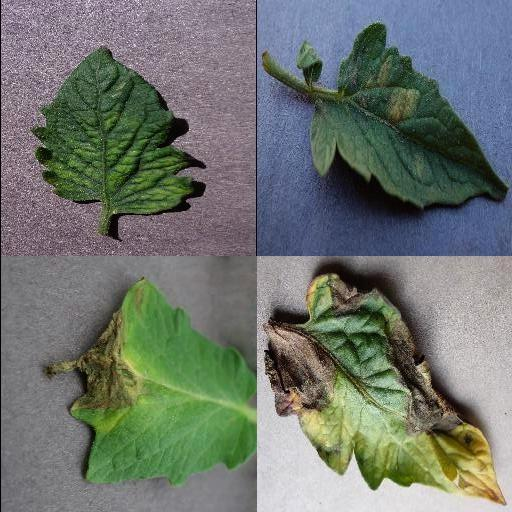Late Blight: (261, 272, 507, 506), (42, 278, 256, 487)
Leaf Mold: (308, 25, 508, 210)
Mosaic Virus: (30, 47, 194, 215)
